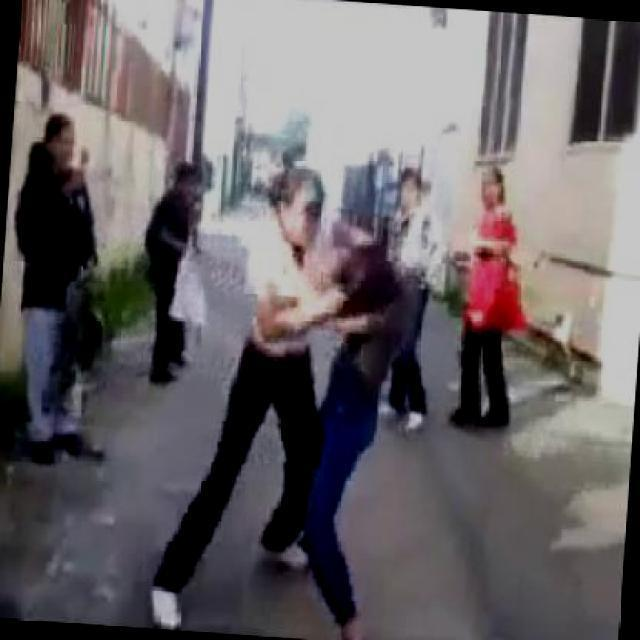fight: (164, 143, 410, 639)
non-fight: (0, 107, 132, 464), (448, 158, 534, 430)
